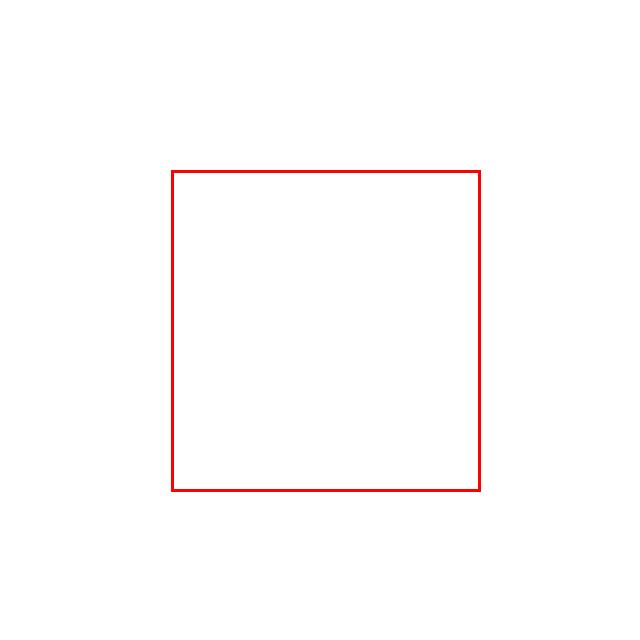Water: (171, 170, 480, 491)
